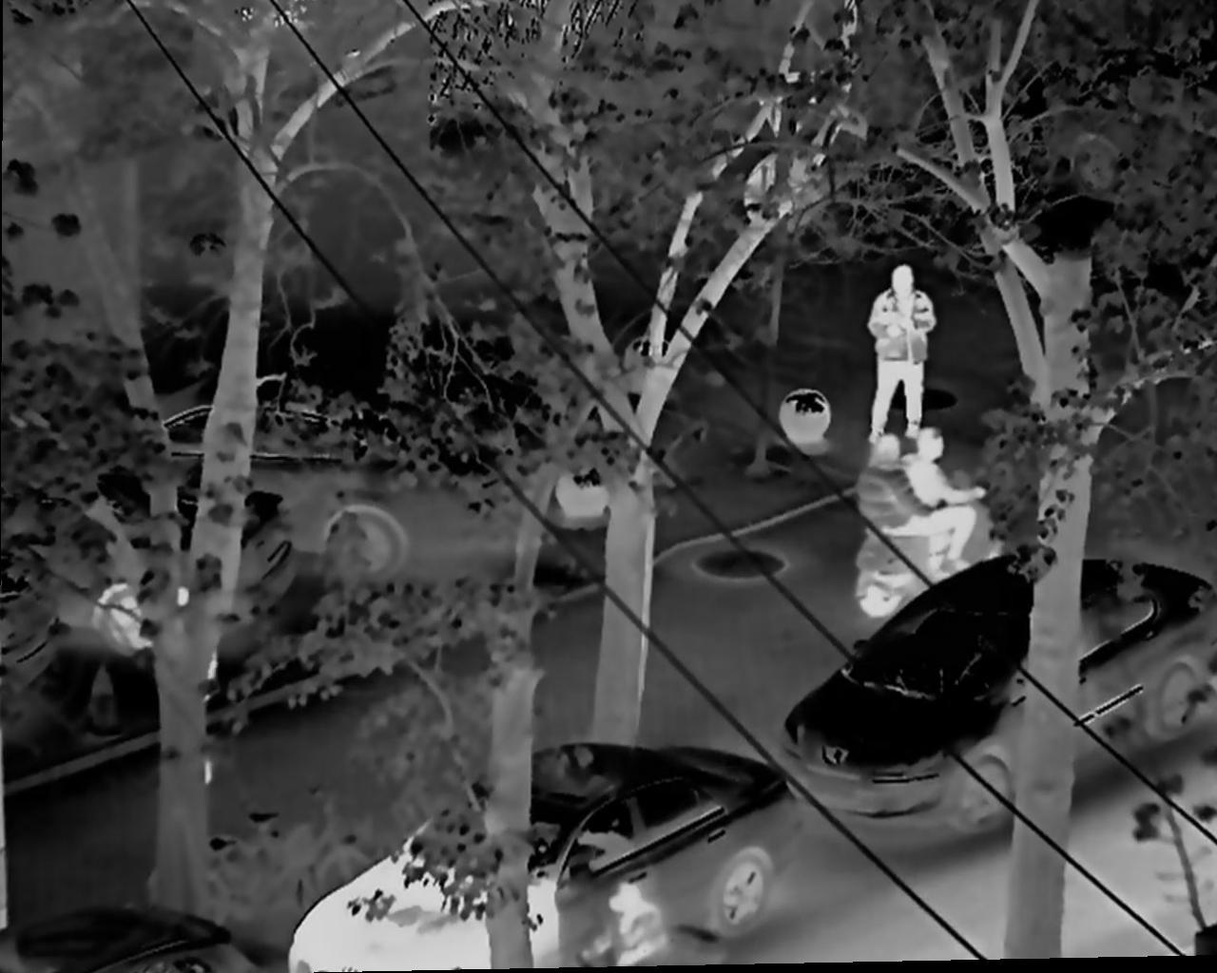person: (857, 429, 952, 582), (863, 266, 939, 434), (905, 427, 987, 569), (606, 883, 670, 973)
